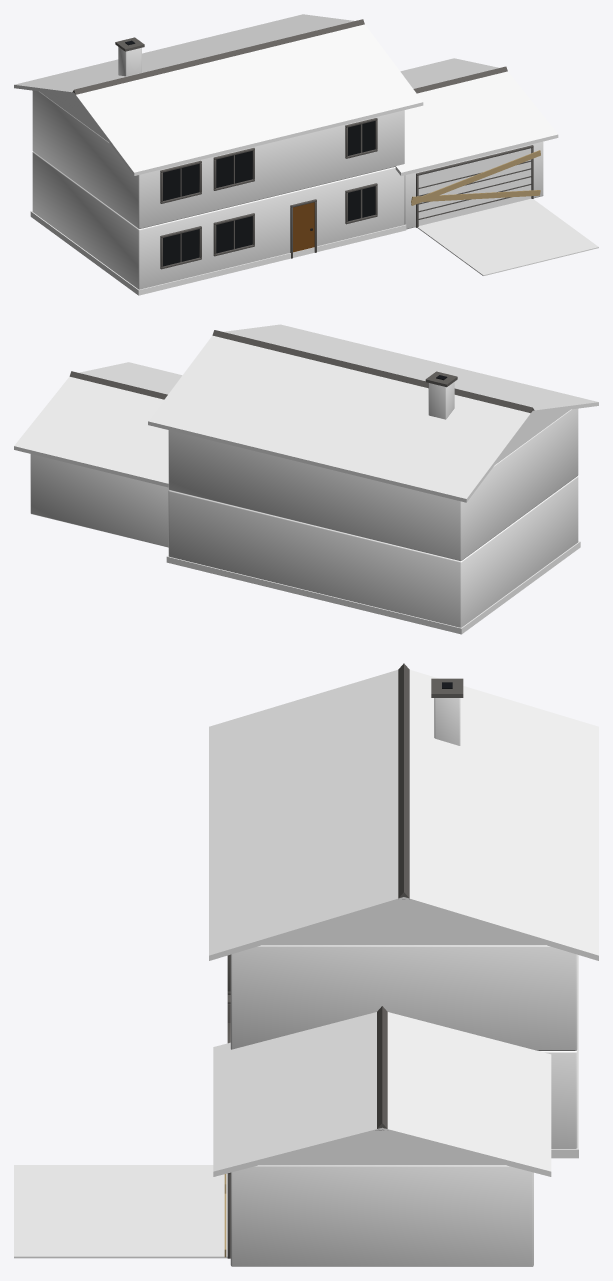
Rendered from bld_ranch_garage_2s.glb.
3 views of the same model, one above another, from view 1: azimuth 30°, elevation 25°; view 2: azimuth 150°, elevation 25°; view 3: azimuth 270°, elevation 25° (orthographic). The views are drawn at different scales.
Visible parts, largest first — view 1: rg_roof_front, rg_walls, rg_walls_s2, rg_groof_front, rg_drive, rg_roof_back, rg_gdoor, rg_footing, rg_roof_cap, rg_groof_back, rg_garage, rg_win0 (+12 smaller); view 2: rg_roof_back, rg_walls, rg_walls_s2, rg_groof_back, rg_garage, rg_roof_front, rg_footing, rg_roof_cap, rg_groof_front, rg_roof_gable, rg_chim, rg_groof_cap; view 3: rg_roof_front, rg_roof_back, rg_garage, rg_walls_s2, rg_groof_front, rg_groof_back, rg_drive, rg_roof_gable, rg_groof_gable, rg_roof_cap, rg_walls, rg_groof_cap (+1 smaller).
Part boxes in pixels (x1,y1,x2,y2): rg_roof_front: (74, 24, 423, 175); rg_walls: (32, 152, 404, 289); rg_walls_s2: (32, 90, 404, 228); rg_groof_front: (395, 71, 558, 175); rg_drive: (417, 198, 598, 275); rg_roof_back: (14, 14, 354, 95); rg_gdoor: (418, 148, 531, 225); rg_footing: (30, 211, 406, 295); rg_roof_cap: (72, 19, 364, 94); rg_groof_back: (400, 58, 498, 88); rg_garage: (404, 141, 543, 229); rg_win0: (163, 229, 199, 266); rg_roof_back: (148, 335, 532, 502); rg_walls: (168, 476, 578, 627); rg_walls_s2: (168, 408, 578, 561); rg_groof_back: (14, 376, 168, 487); rg_garage: (30, 454, 168, 547); rg_roof_front: (223, 324, 598, 414); rg_footing: (166, 541, 580, 634); rg_roof_cap: (212, 330, 534, 413); rg_groof_front: (78, 362, 182, 394); rg_roof_gable: (495, 409, 570, 464); rg_chim: (428, 382, 454, 419); rg_groof_cap: (69, 371, 167, 399); rg_roof_front: (209, 670, 403, 960); rg_roof_back: (404, 670, 598, 960); rg_garage: (230, 1165, 533, 1266); rg_walls_s2: (230, 945, 577, 1050); rg_groof_front: (213, 1012, 382, 1176); rg_groof_back: (382, 1012, 551, 1176); rg_drive: (14, 1165, 227, 1258); rg_roof_gable: (262, 902, 545, 945); rg_groof_gable: (259, 1133, 504, 1165); rg_roof_cap: (398, 663, 409, 899); rg_walls: (541, 1050, 577, 1148); rg_groof_cap: (375, 1006, 387, 1130).
Bounding box in the file's own units: 18.4 × 7.83 × 13.5.
